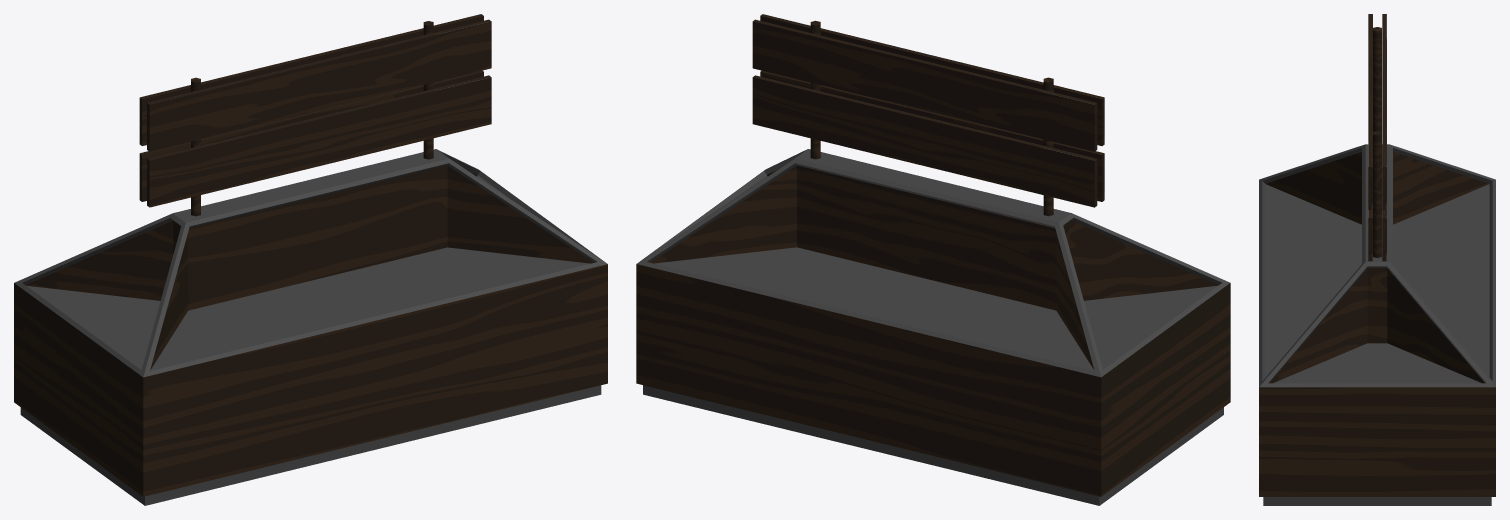
The model's file is fruit stand.FBX.
3 views of the same model, side by side, from view 1: azimuth 30°, elevation 25°; view 2: azimuth 150°, elevation 25°; view 3: azimuth 270°, elevation 25° (orthographic). The views are drawn at different scales.
Parts seen in each view (by area): view 1: Box008; view 2: Box008; view 3: Box008.
Boxes of the visible parts, bbox=[...] form: Box008: bbox=[14, 14, 607, 505]; Box008: bbox=[636, 14, 1230, 505]; Box008: bbox=[1259, 14, 1495, 505].
Bounding box in the file's own units: 55.43 × 40.2 × 26.7.
